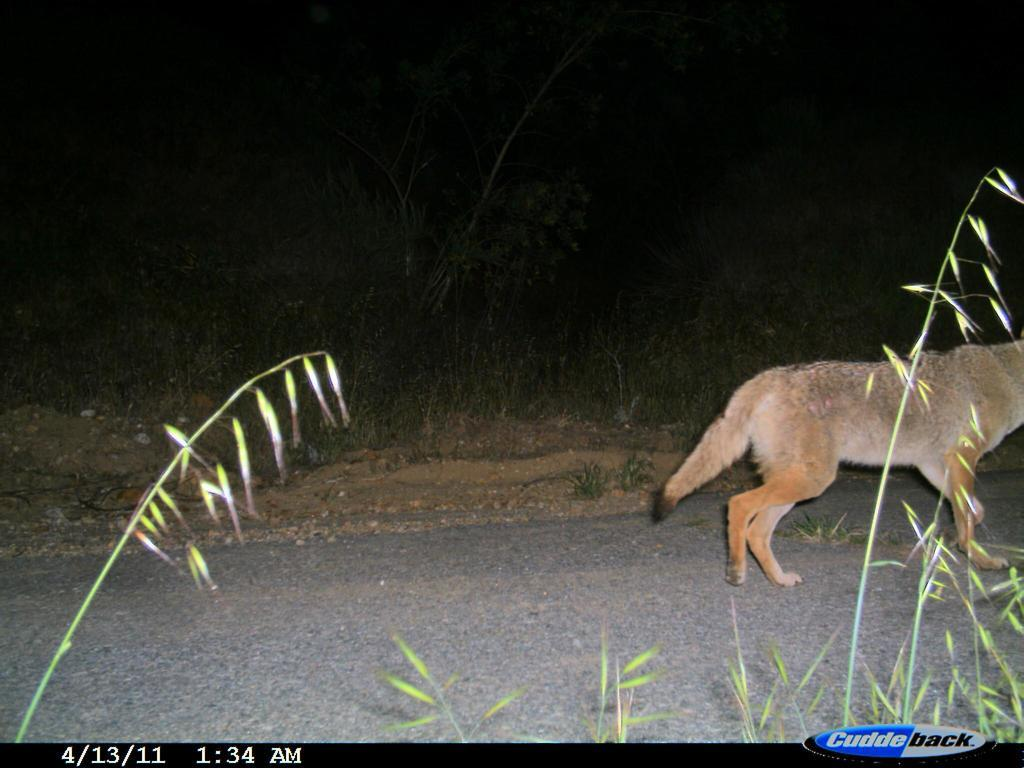coyote: (642, 319, 1018, 609)
